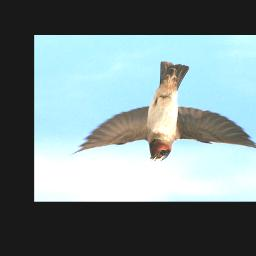Swallow: (67, 61, 256, 162)
